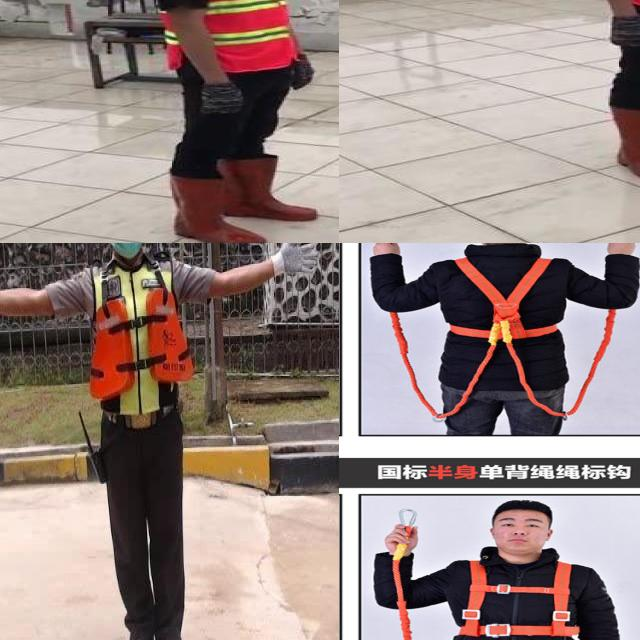Harness: (442, 250, 575, 394)
boots: (594, 104, 640, 189), (197, 82, 250, 115), (287, 55, 325, 91), (118, 629, 155, 640), (156, 629, 193, 640)
hand_glove: (161, 165, 264, 243), (227, 154, 318, 222), (603, 13, 640, 51)
person: (0, 243, 339, 640), (126, 0, 338, 243)
vest: (88, 259, 193, 417), (138, 0, 298, 74)
